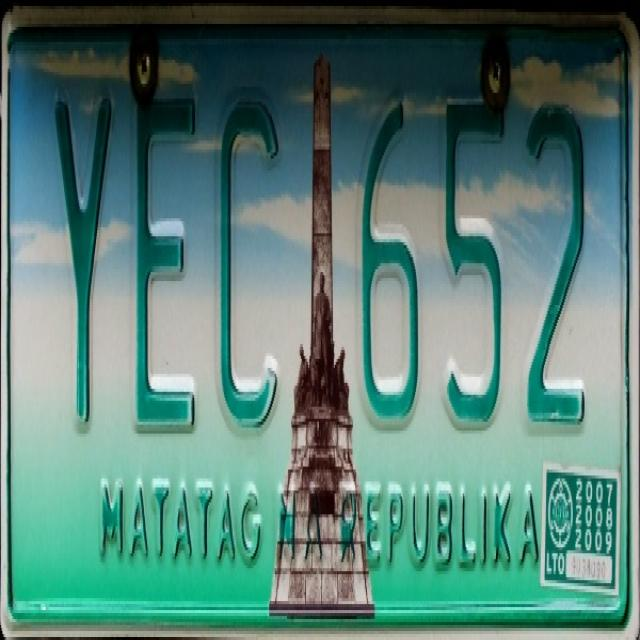license-plate: (2, 6, 634, 634)
